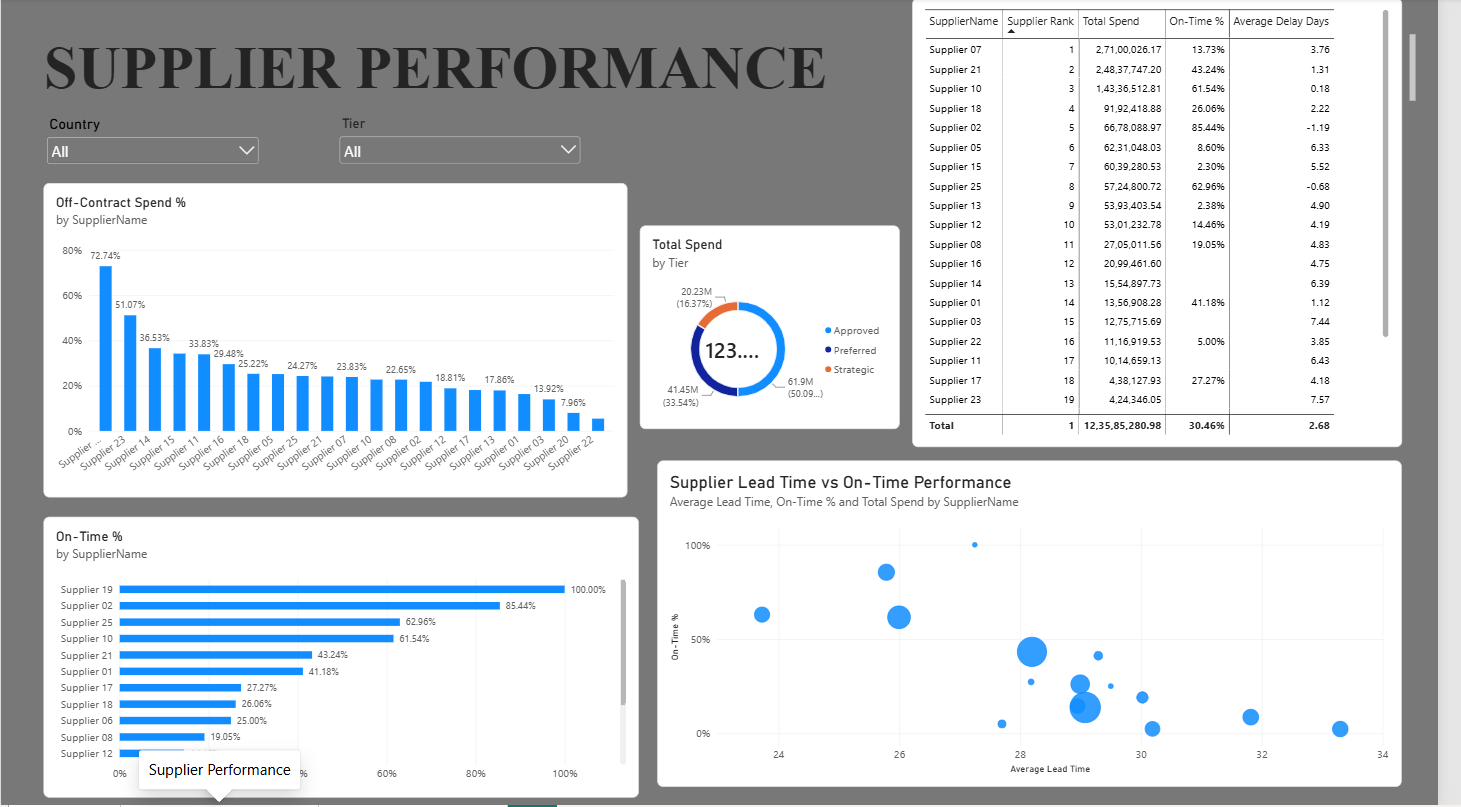

What the dashboard file says about the page in this screenshot:
{"tool":"powerbi","page":{"name":"Supplier Performance","canvas":[1920,1080],"ordinal":1},"visuals":[{"type":"clusteredBarChart","fields":{"Category":["DimSupplier.SupplierName"],"Y":["DQ_Log.On-Time %"]},"box":[57.6,692.4,795.4,375],"z":4},{"type":"clusteredColumnChart","fields":{"Category":["DimSupplier.SupplierName"],"Y":["DQ_Log.Off-Contract Spend %"]},"box":[57.6,247.7,779.7,420.4],"z":5},{"type":"tableEx","fields":{"Values":["DimSupplier.SupplierName","DQ_Log.Supplier Rank","DQ_Log.Total Spend","DQ_Log.On-Time %","DQ_Log.Average Delay Days"]},"box":[1217.4,0,654.1,600],"z":6},{"type":"slicer","fields":{"Values":["DimSupplier.Country"]},"box":[57.6,157,292.3,140],"z":7},{"type":"slicer","fields":{"Values":["DimSupplier.Tier"]},"box":[448.3,157,331.4,140],"z":8},{"type":"textbox","box":[940.1,326.2,858.1,113.4],"z":9},{"type":"textbox","box":[57.6,48.8,1833.1,90.7],"z":10},{"type":"scatterChart","title":"Supplier Lead Time vs On-Time Performance","fields":{"Category":["DimSupplier.SupplierName"],"Size":["DQ_Log.Total Spend"],"X":["DQ_Log.Average Lead Time"],"Y":["DQ_Log.On-Time %"]},"box":[877.3,617.4,994.2,436],"z":11},{"type":"donutChart","fields":{"Category":["DimSupplier.Tier"],"Y":["DQ_Log.Total Spend"]},"box":[852.9,303.5,347.1,272.1],"z":12}]}

Visuals, with their boxes in screenshot pixels (x1, y1, x2, y2), scaled from the page's 1920x1080 canvas onto the 1461x807 screenshot:
clusteredBarChart - DimSupplier.SupplierName x DQ_Log.On-Time %: [left=44, top=517, right=649, bottom=798]
clusteredColumnChart - DimSupplier.SupplierName x DQ_Log.Off-Contract Spend %: [left=44, top=185, right=637, bottom=499]
tableEx - DimSupplier.SupplierName x DQ_Log.Supplier Rank: [left=926, top=0, right=1424, bottom=448]
slicer - DimSupplier.Country: [left=44, top=117, right=266, bottom=222]
slicer - DimSupplier.Tier: [left=341, top=117, right=593, bottom=222]
textbox: [left=715, top=244, right=1368, bottom=328]
textbox: [left=44, top=36, right=1439, bottom=104]
"Supplier Lead Time vs On-Time Performance" scatterChart: [left=668, top=461, right=1424, bottom=787]
donutChart - DimSupplier.Tier x DQ_Log.Total Spend: [left=649, top=227, right=913, bottom=430]
